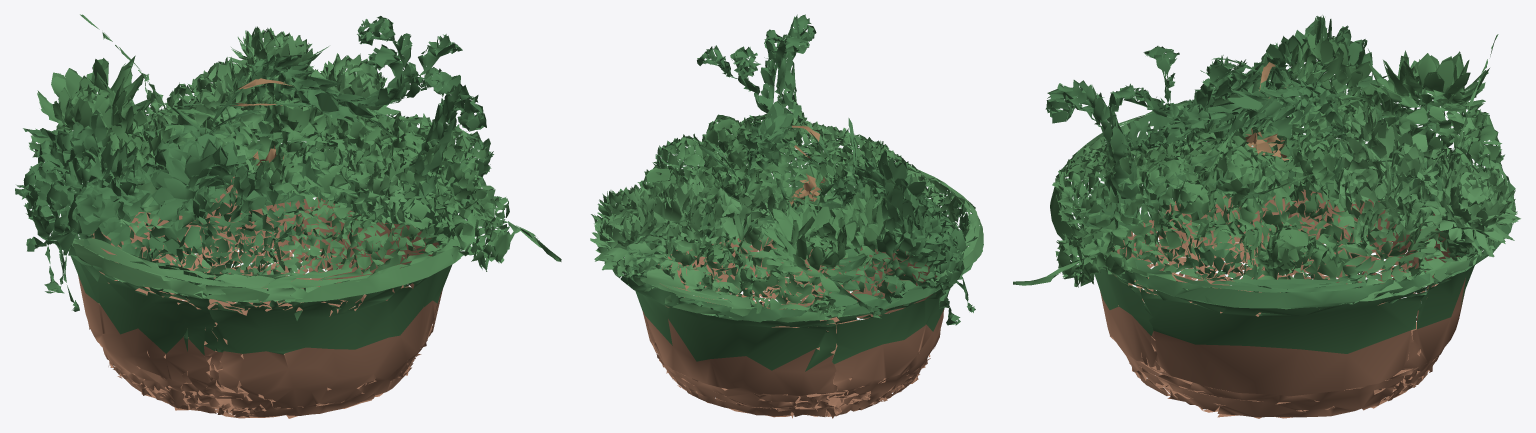
The model's file is ergoflex-plant-3.glb.
3 views of the same model, side by side, from view 1: azimuth 30°, elevation 25°; view 2: azimuth 150°, elevation 25°; view 3: azimuth 270°, elevation 25° (orthographic). The views are drawn at different scales.
Parts seen in each view (by area): view 1: Planter and foliage 0, Planter and foliage 1, Planter and foliage 2; view 2: Planter and foliage 0, Planter and foliage 1, Planter and foliage 2; view 3: Planter and foliage 0, Planter and foliage 1, Planter and foliage 2.
Part boxes in pixels (x1,y1,x2,y2): Planter and foliage 0: (15,16,493,418); Planter and foliage 1: (29,14,561,312); Planter and foliage 2: (52,14,481,308); Planter and foliage 0: (607,14,977,418); Planter and foliage 1: (591,84,972,322); Planter and foliage 2: (590,88,983,318); Planter and foliage 0: (1045,15,1515,418); Planter and foliage 1: (1013,16,1506,296); Planter and foliage 2: (1065,35,1520,301).
Bounding box in the file's own units: 0.3341 × 0.2602 × 0.35.
